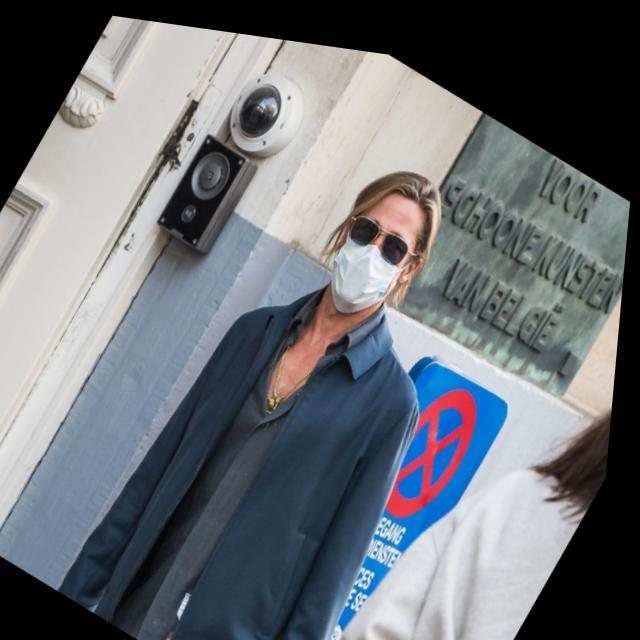Nonhelmet: (317, 167, 444, 316)
